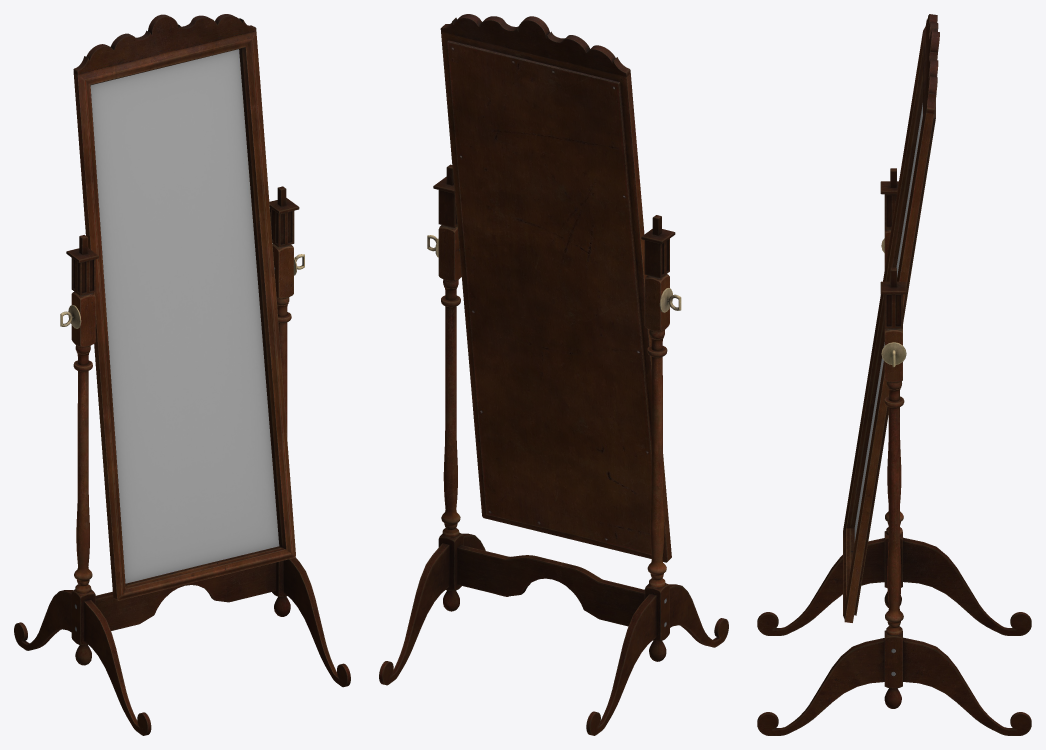
File: Mirror2.fbx
3 renders of one model, left to right at view 1: azimuth 30°, elevation 25°; view 2: azimuth 150°, elevation 25°; view 3: azimuth 270°, elevation 25°, orthographic. The views are drawn at different scales.
Parts seen in each view (by area): view 1: Rectangular Cheval Mirror.001; view 2: Rectangular Cheval Mirror.001; view 3: Rectangular Cheval Mirror.001.
Part boxes in pixels (<box>): Rectangular Cheval Mirror.001: <box>14,14,350,735</box>; Rectangular Cheval Mirror.001: <box>379,14,728,735</box>; Rectangular Cheval Mirror.001: <box>757,14,1031,735</box>.
Size of the model in its own units: 64.81 by 161 by 61.46.
